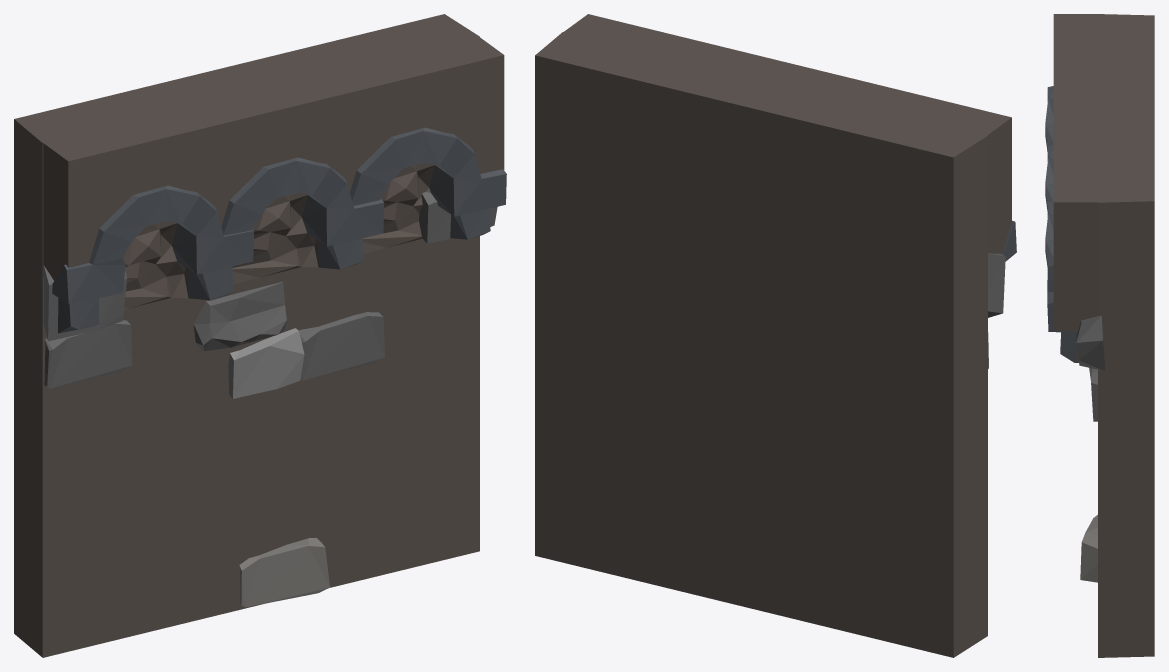
Rendered from MCastle_SquareWalls_ArchCarbels.FBX.
3 renders of one model, left to right at view 1: azimuth 30°, elevation 25°; view 2: azimuth 150°, elevation 25°; view 3: azimuth 270°, elevation 25°, orthographic. The views are drawn at different scales.
Visible parts, largest first — view 1: MCastle_SquareWalls_ArchCarbels_LOD0; view 2: MCastle_SquareWalls_ArchCarbels_LOD0; view 3: MCastle_SquareWalls_ArchCarbels_LOD0.
Boxes of the visible parts, <box> form: MCastle_SquareWalls_ArchCarbels_LOD0: <box>14,14,506,657</box>; MCastle_SquareWalls_ArchCarbels_LOD0: <box>535,14,1016,657</box>; MCastle_SquareWalls_ArchCarbels_LOD0: <box>1045,14,1154,657</box>.
Size of what is drawn, in the model's own units: 4.16 by 4.5 by 0.9806.
